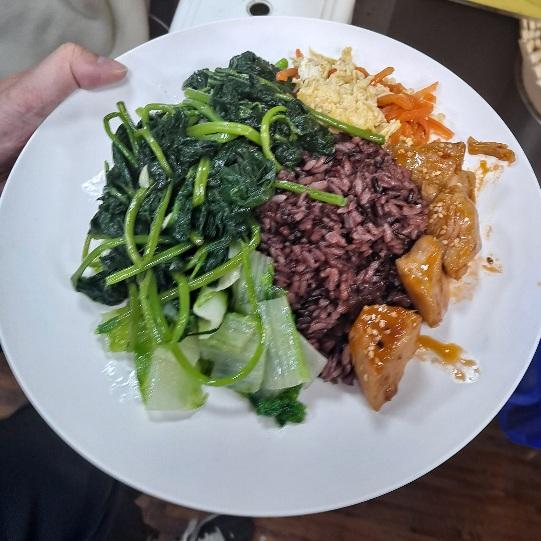big fried chicken leg: (5, 17, 541, 523)
braised fish: (249, 134, 430, 381)
braised fish fillet: (76, 51, 310, 303), (103, 246, 312, 424), (289, 50, 444, 141)
braised pork: (343, 131, 489, 412)
